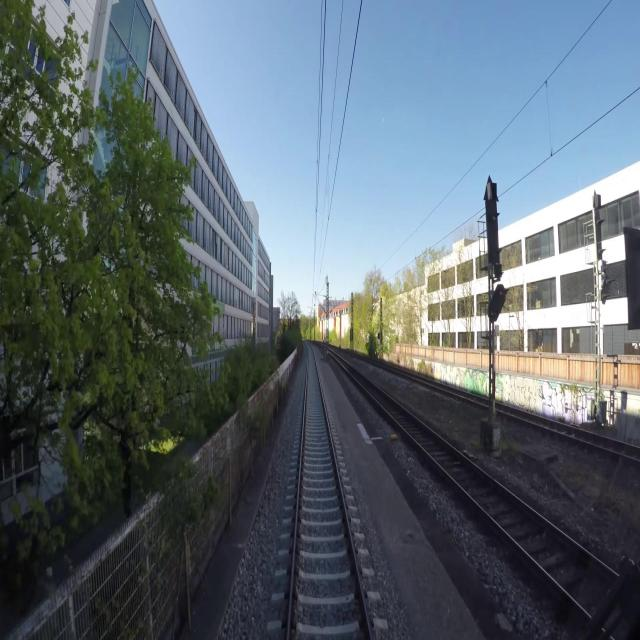rail-track: (346, 365, 610, 608), (291, 348, 369, 639), (515, 412, 640, 456)
